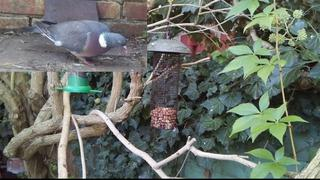wood pigeon: (20, 20, 127, 67)
